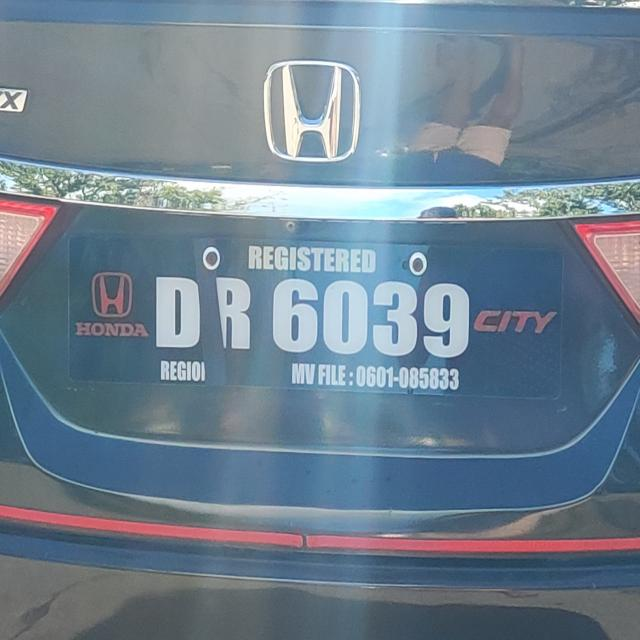plate: (59, 219, 575, 420)
